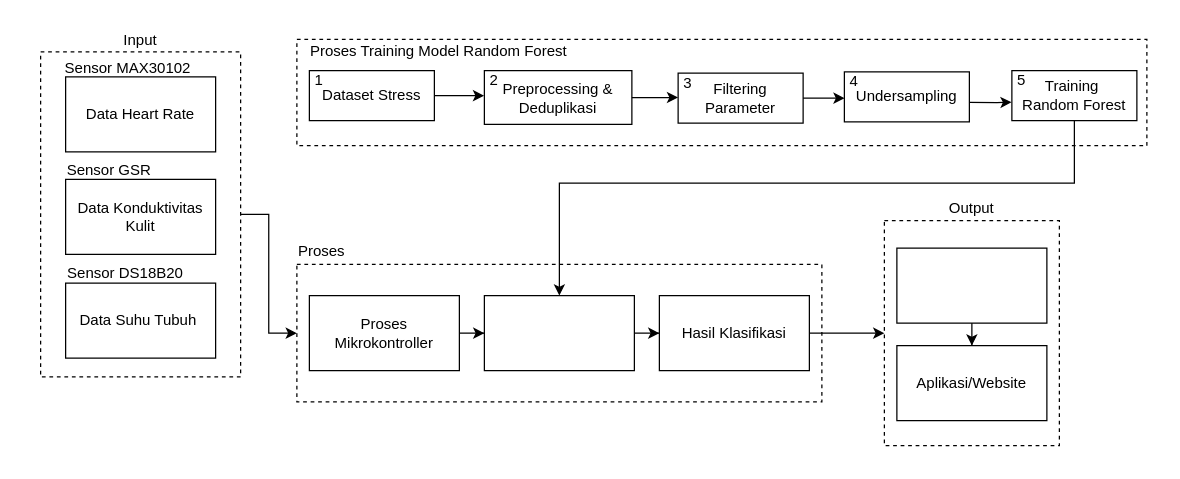
Image size: 1180x479. Some labels were removed from this diagram. Each missing label, with the centre of its shape:
"Database" goes at pixel 971 285.
"Klasifikasi Model Random Forest" goes at pixel 558 332.
